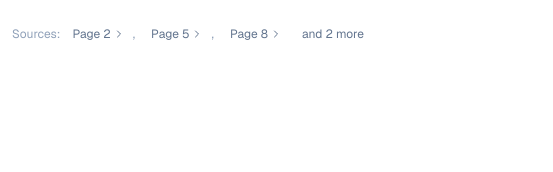
Test: SourceCitationList › AC-5.4.4: Expandable sources for many citations › expands to show all sources when "and X more" clicked
Click expand button
Click the button "and 2 more": [333, 34] box [294, 12, 372, 56]
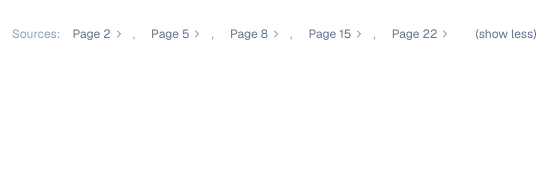
expect the button with aria-label "View page 2 in document" is shown: met, box [64, 12, 133, 56]
expect the button with aria-label "View page 15 in document" is shown: met, box [300, 12, 373, 56]
expect the button with aria-label "View page 22 in document" is shown: met, box [384, 12, 460, 56]
